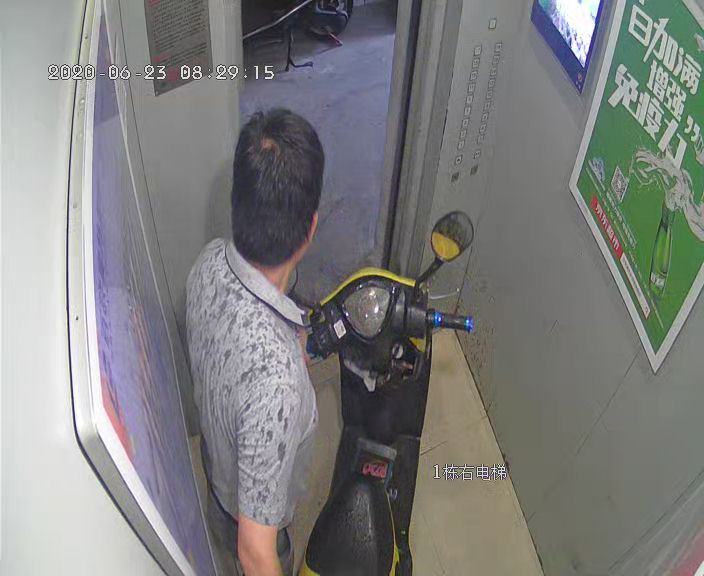Electric-bicycle: (291, 213, 477, 570)
